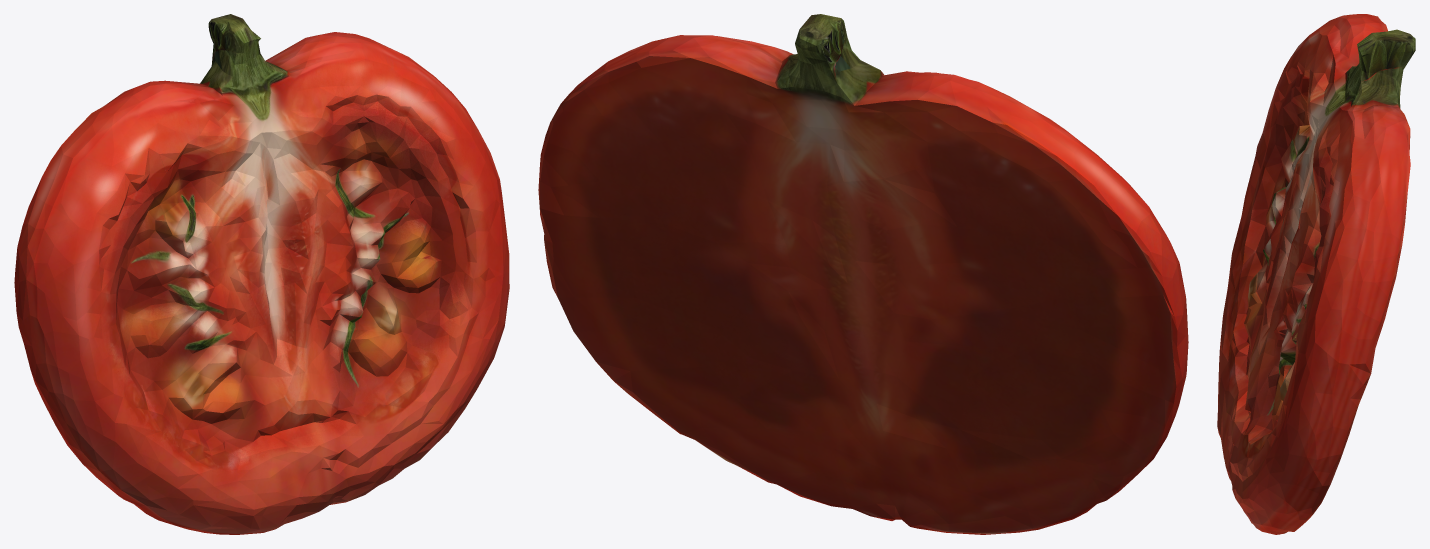
File: tomato_cutted_ingre_0421203458_texture.fbx
The picture shows the model from 3 angles, left to right: view 1: azimuth 30°, elevation 25°; view 2: azimuth 150°, elevation 25°; view 3: azimuth 270°, elevation 25°; orthographic projection. The views are drawn at different scales.
Parts seen in each view (by area): view 1: temp; view 2: temp; view 3: temp.
Boxes of the visible parts, left/top/right/bottom form: temp: left=14, top=14, right=509, bottom=534; temp: left=538, top=14, right=1188, bottom=534; temp: left=1217, top=14, right=1415, bottom=534.
Size of the model in its own units: 200 by 176 by 67.74.
Materials: 1 (1 with a texture image).
